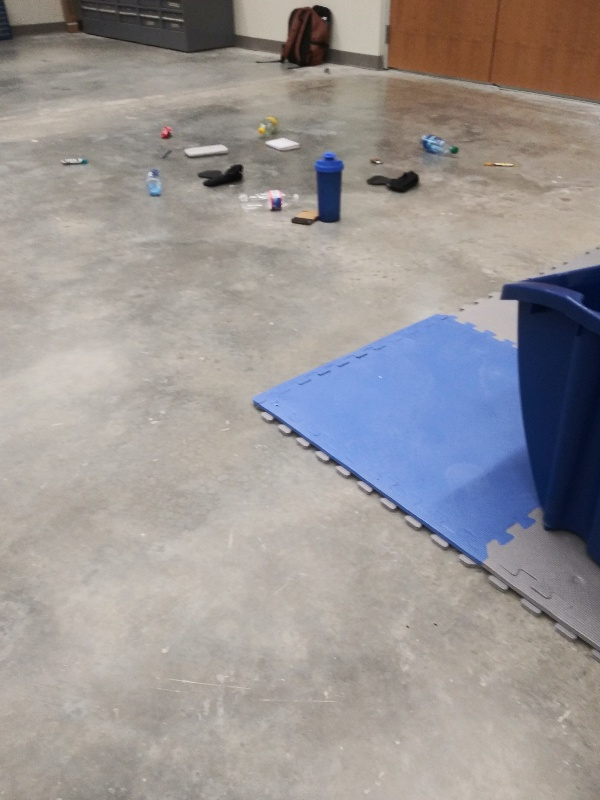bottle: (235, 187, 303, 215), (416, 132, 459, 158), (143, 167, 168, 198), (255, 114, 283, 137)
